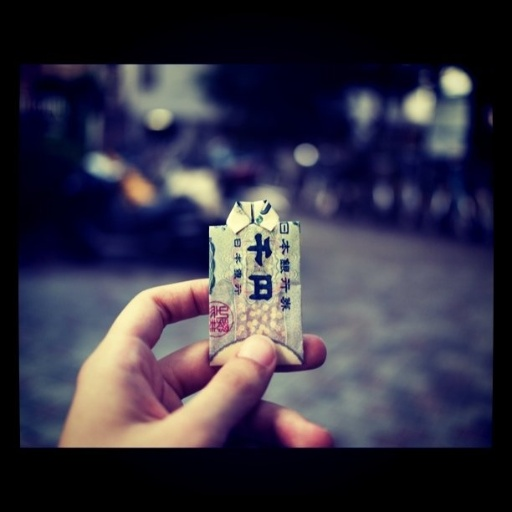hand: (56, 275, 332, 454)
